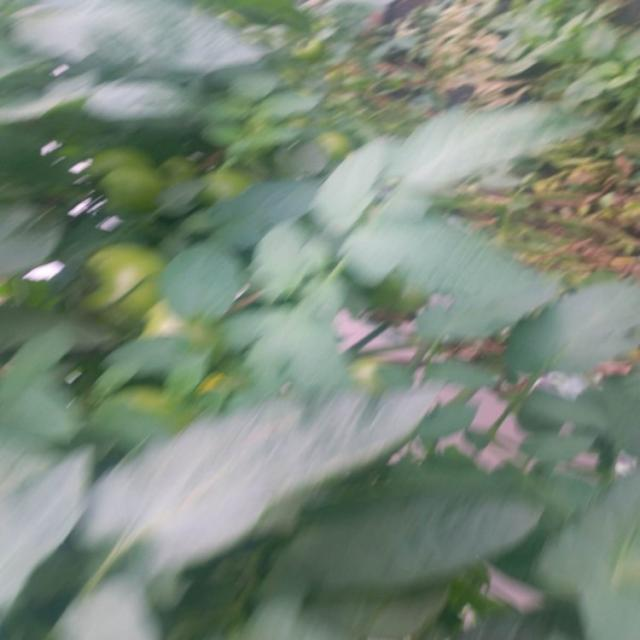tomato: (69, 229, 171, 323), (80, 137, 166, 214), (133, 297, 201, 349), (191, 156, 248, 215)
